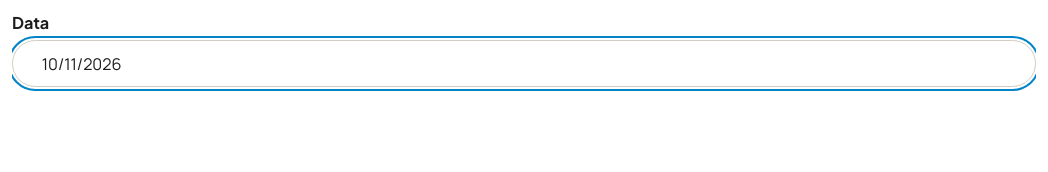
DatePicker › move o foco para o dia selecionado ao abrir e liga o gatilho ao calendário
The width and height of the screenshot is (1048, 172).
Click the button named "Data" at (82, 64), box [12,40,1036,87]
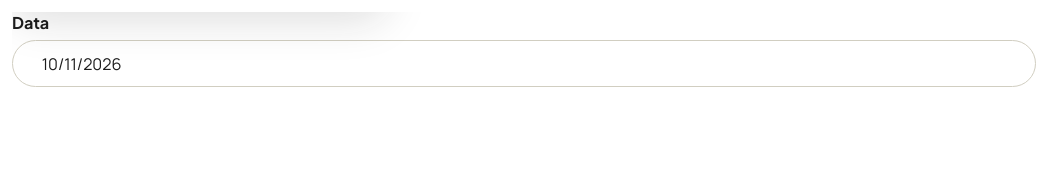
expect the button named "Data" is expanded: met, box [12,40,1036,87]
